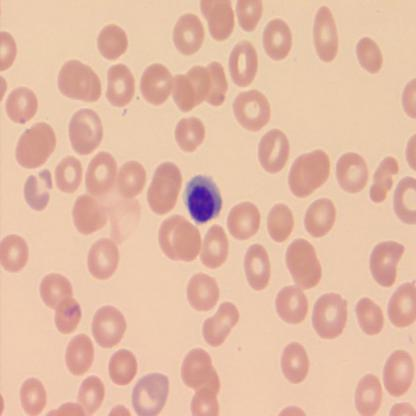NRC: (182, 172, 224, 227)
